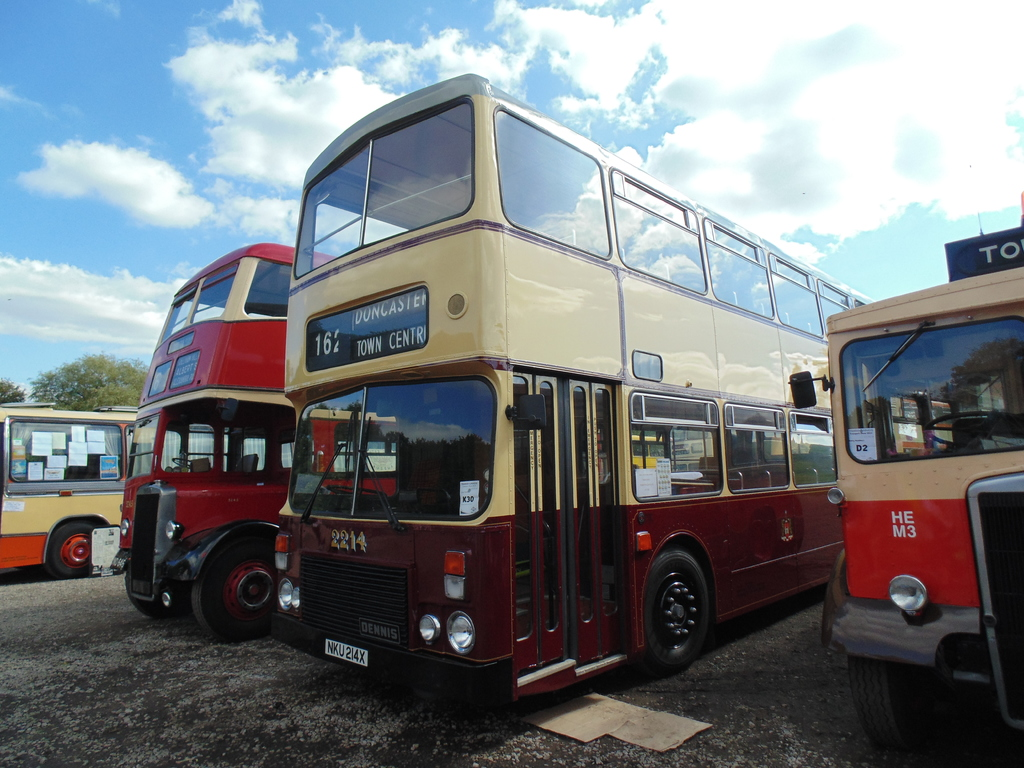Bus: (270, 71, 876, 684), (778, 269, 1023, 753), (112, 234, 350, 642), (0, 404, 397, 576)
